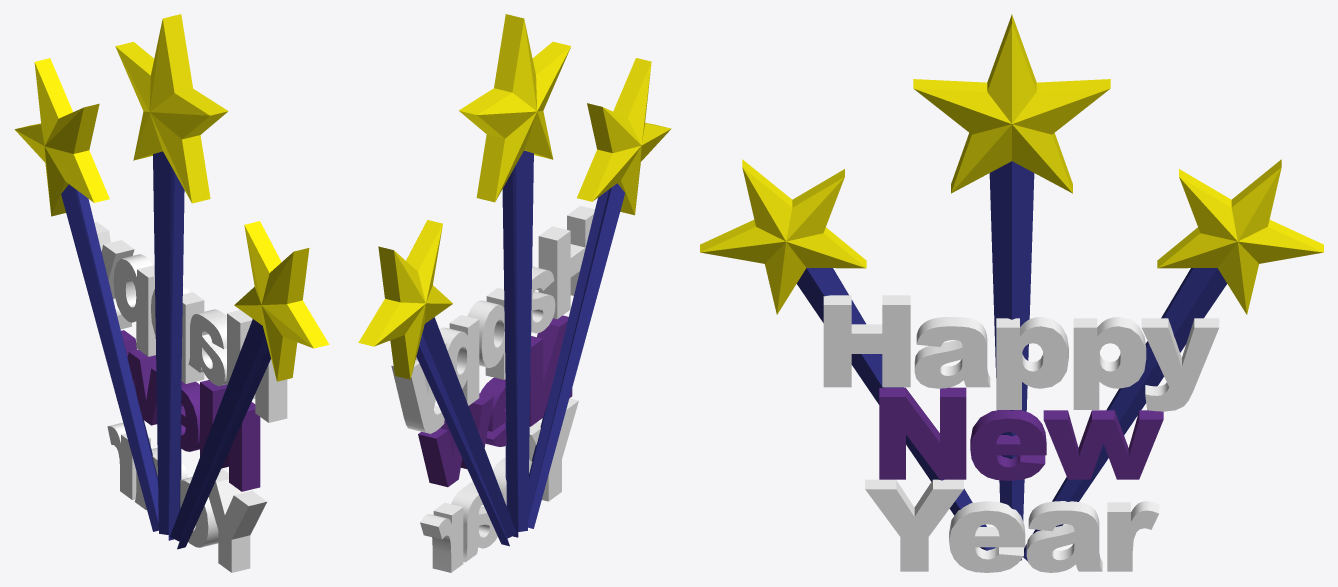
The model's file is MM_HappyNewYear.fbx.
The picture shows the model from 3 angles, left to right: view 1: azimuth 30°, elevation 25°; view 2: azimuth 150°, elevation 25°; view 3: azimuth 270°, elevation 25°; orthographic projection. The views are drawn at different scales.
Visible parts, largest first — view 1: MM_HappyNewYear; view 2: MM_HappyNewYear; view 3: MM_HappyNewYear.
Boxes of the visible parts, x1,y1,x2,y2 form: MM_HappyNewYear: (14, 14, 329, 572); MM_HappyNewYear: (358, 14, 671, 572); MM_HappyNewYear: (700, 14, 1323, 572).
Size of the model in its own units: 17.25 by 183 by 190.
